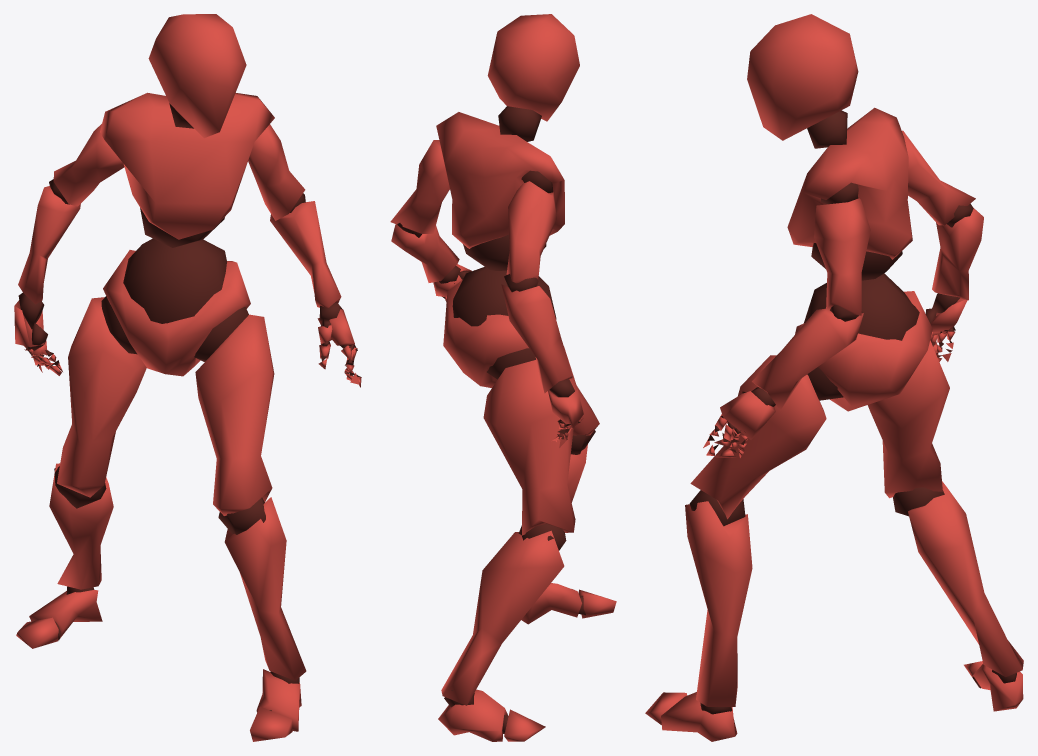
3 renders of one model, left to right at view 1: azimuth 30°, elevation 25°; view 2: azimuth 150°, elevation 25°; view 3: azimuth 270°, elevation 25°, orthographic. The views are drawn at different scales.
Parts seen in each view (by area): view 1: Beta_Surface; view 2: Beta_Surface; view 3: Beta_Surface.
Boxes of the visible parts, x1,y1,x2,y2 form: Beta_Surface: [14, 14, 361, 741]; Beta_Surface: [390, 14, 616, 741]; Beta_Surface: [645, 14, 1023, 741].
Size of the model in its own units: 5.49 by 14.63 by 7.2.
